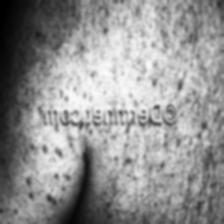Unclassified: (32, 22, 46, 42), (148, 73, 161, 93), (44, 190, 60, 206)
